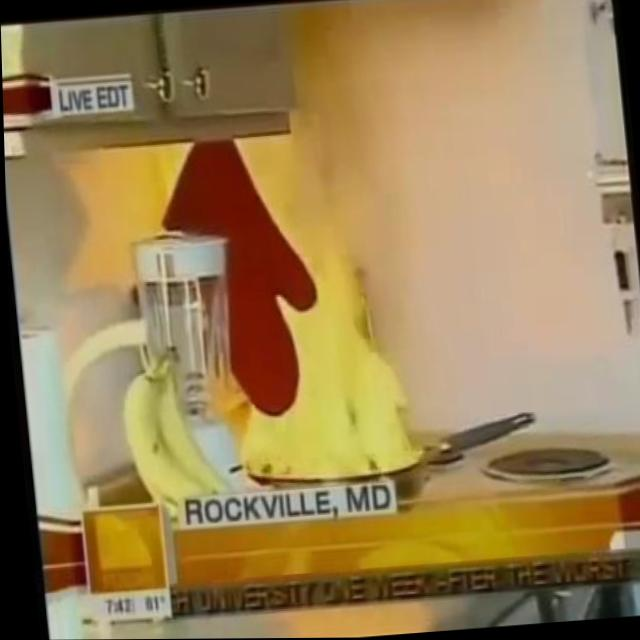fire: (170, 127, 429, 491)
